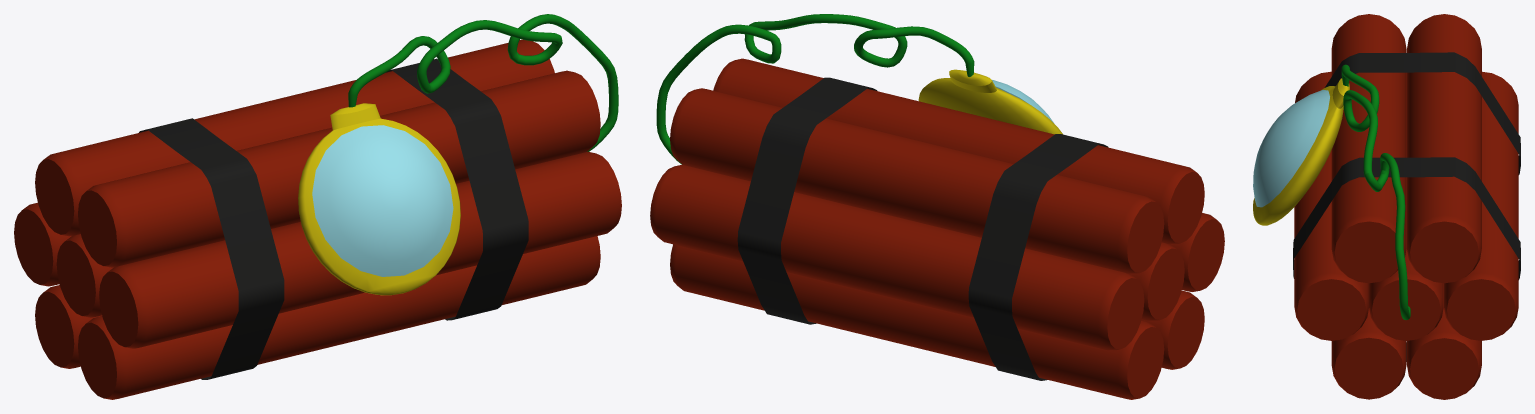
Rendered from Bomb_Dynamite.fbx.
3 renders of one model, left to right at view 1: azimuth 30°, elevation 25°; view 2: azimuth 150°, elevation 25°; view 3: azimuth 270°, elevation 25°, orthographic. The views are drawn at different scales.
Parts seen in each view (by area): view 1: dynamite1; view 2: dynamite1; view 3: dynamite1.
Part boxes in pixels (x1=…): dynamite1: x1=14, y1=14, x2=621, y2=399; dynamite1: x1=650, y1=14, x2=1224, y2=399; dynamite1: x1=1253, y1=14, x2=1520, y2=399.
Size of the model in its own units: 0.7152 by 0.3612 by 0.3495.
4 materials, 4 textured.
